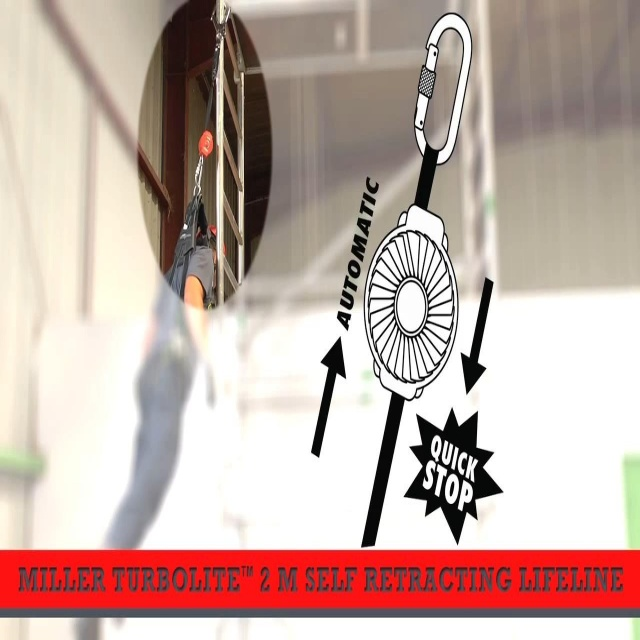Arnes_seguridad: (118, 139, 216, 428)
